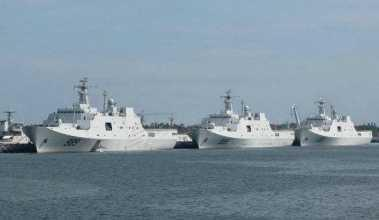warship: (27, 81, 174, 155), (187, 81, 297, 151), (296, 85, 377, 148)
